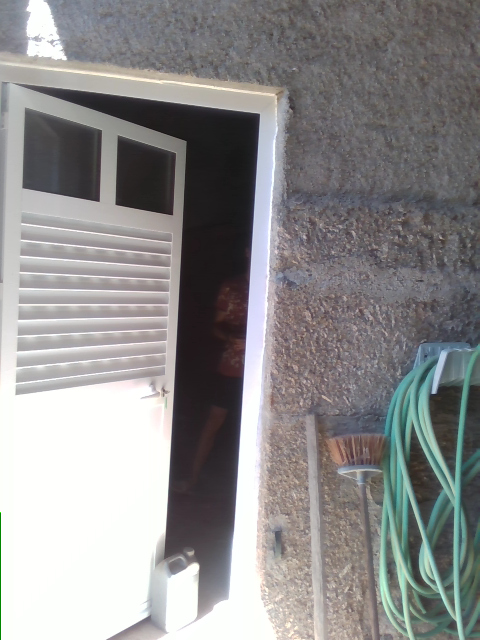semi: (0, 60, 286, 637)
